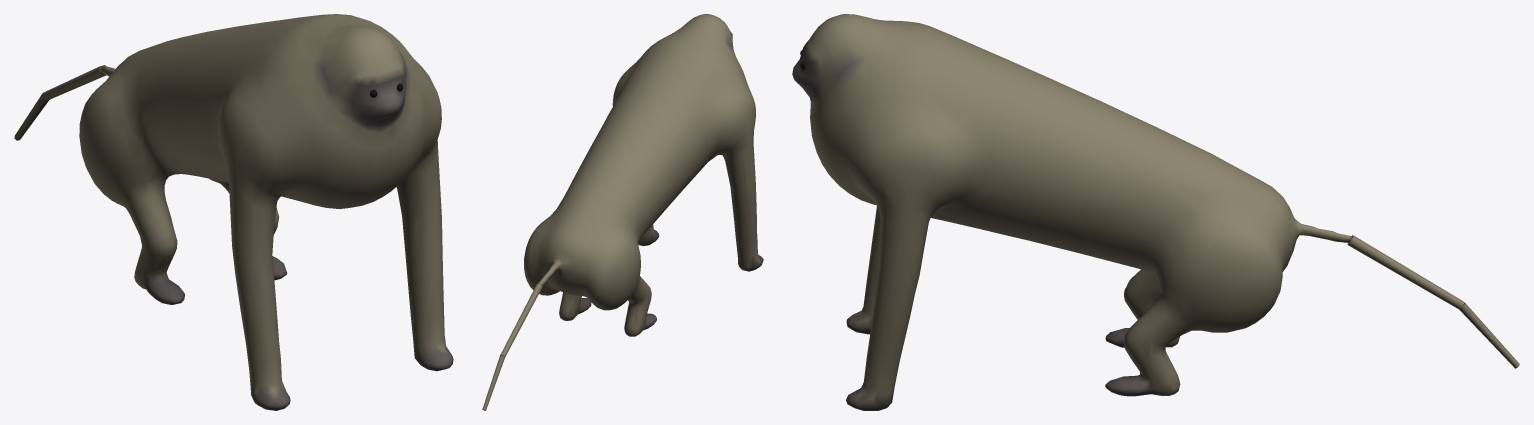
File: pavian.glb
3 views of the same model, side by side, from view 1: azimuth 30°, elevation 25°; view 2: azimuth 150°, elevation 25°; view 3: azimuth 270°, elevation 25° (orthographic). The views are drawn at different scales.
Parts seen in each view (by area): view 1: lack; view 2: lack; view 3: lack.
Part boxes in pixels (bbox=[...]): lack: bbox=[14, 14, 453, 410]; lack: bbox=[482, 14, 763, 410]; lack: bbox=[792, 14, 1519, 410].
Size of the model in its own units: 0.4058 by 0.6963 by 1.3.
